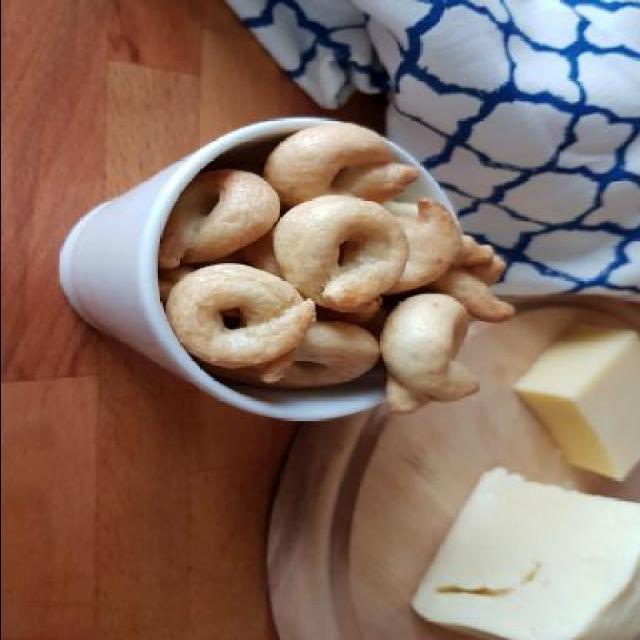Taralli: (156, 119, 510, 413)
